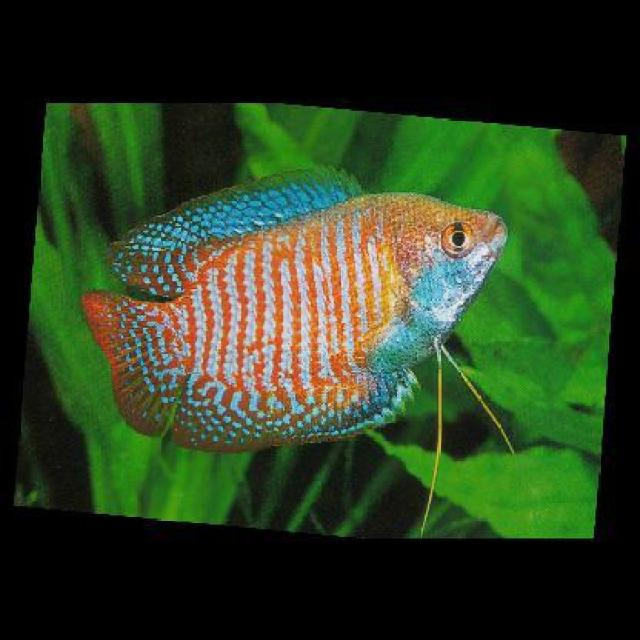Gourami: (80, 161, 508, 454)
